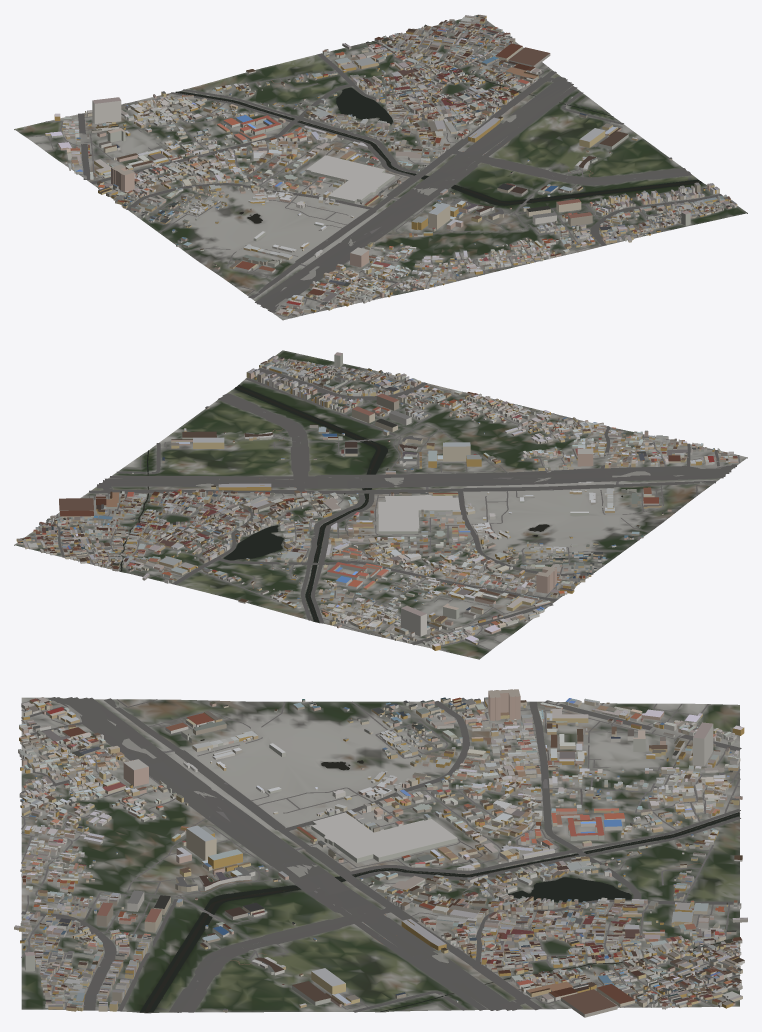
3 views of the same model, one above another, from view 1: azimuth 30°, elevation 25°; view 2: azimuth 150°, elevation 25°; view 3: azimuth 270°, elevation 25° (orthographic). The views are drawn at different scales.
Visible parts, largest first — view 1: ground, buildings, roads, water; view 2: ground, buildings, roads, water; view 3: ground, buildings, roads, water.
Boxes of the visible parts, x1,y1,x2,y2 form: ground: (14, 14, 747, 320); buildings: (45, 14, 737, 316); roads: (26, 21, 729, 318); water: (175, 41, 702, 260); ground: (14, 350, 747, 659); buildings: (16, 352, 738, 650); roads: (31, 361, 740, 652); water: (120, 385, 622, 622); ground: (21, 697, 739, 1013); buildings: (14, 689, 747, 1017); roads: (20, 697, 741, 1012); water: (140, 739, 739, 1012).
Bounding box in the file's own units: 1453 × 69.1 × 1431.
